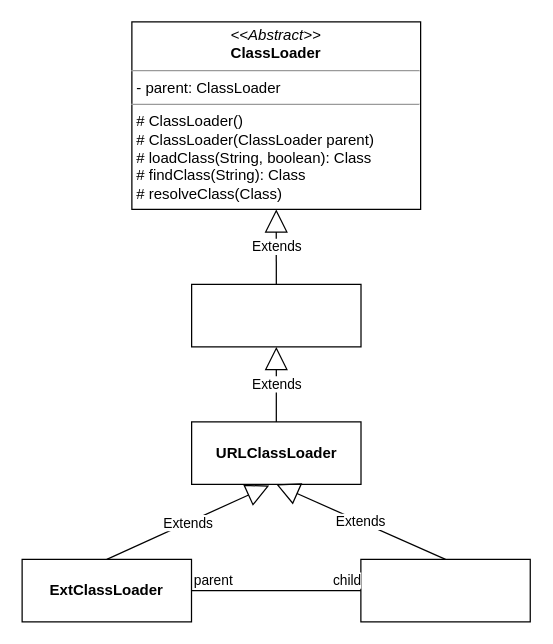
Some shapes in this 553 by 644 pixel diagram are drawn without their labels. Each missing label, with the box of its shape:
AppClassLoader: (360, 558, 530, 622)
SecureClassLoader: (190, 283, 361, 347)
